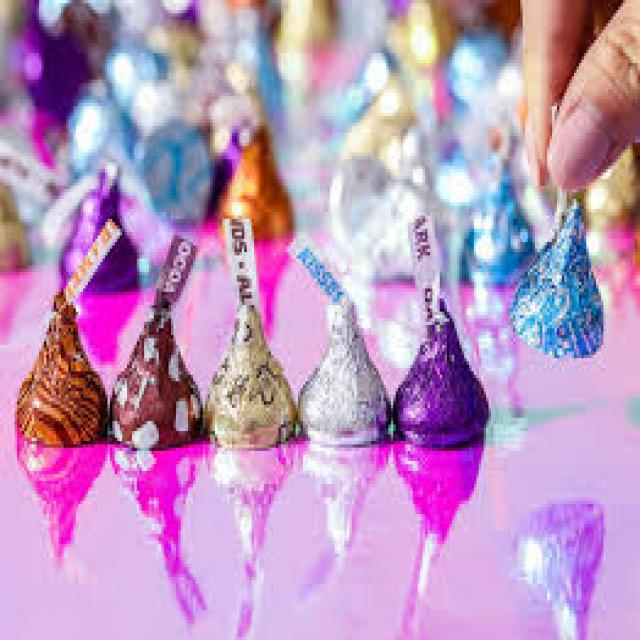kisses: (383, 193, 499, 472), (506, 104, 610, 386), (294, 215, 402, 484), (17, 213, 119, 469), (200, 198, 289, 476), (296, 464, 306, 468)
